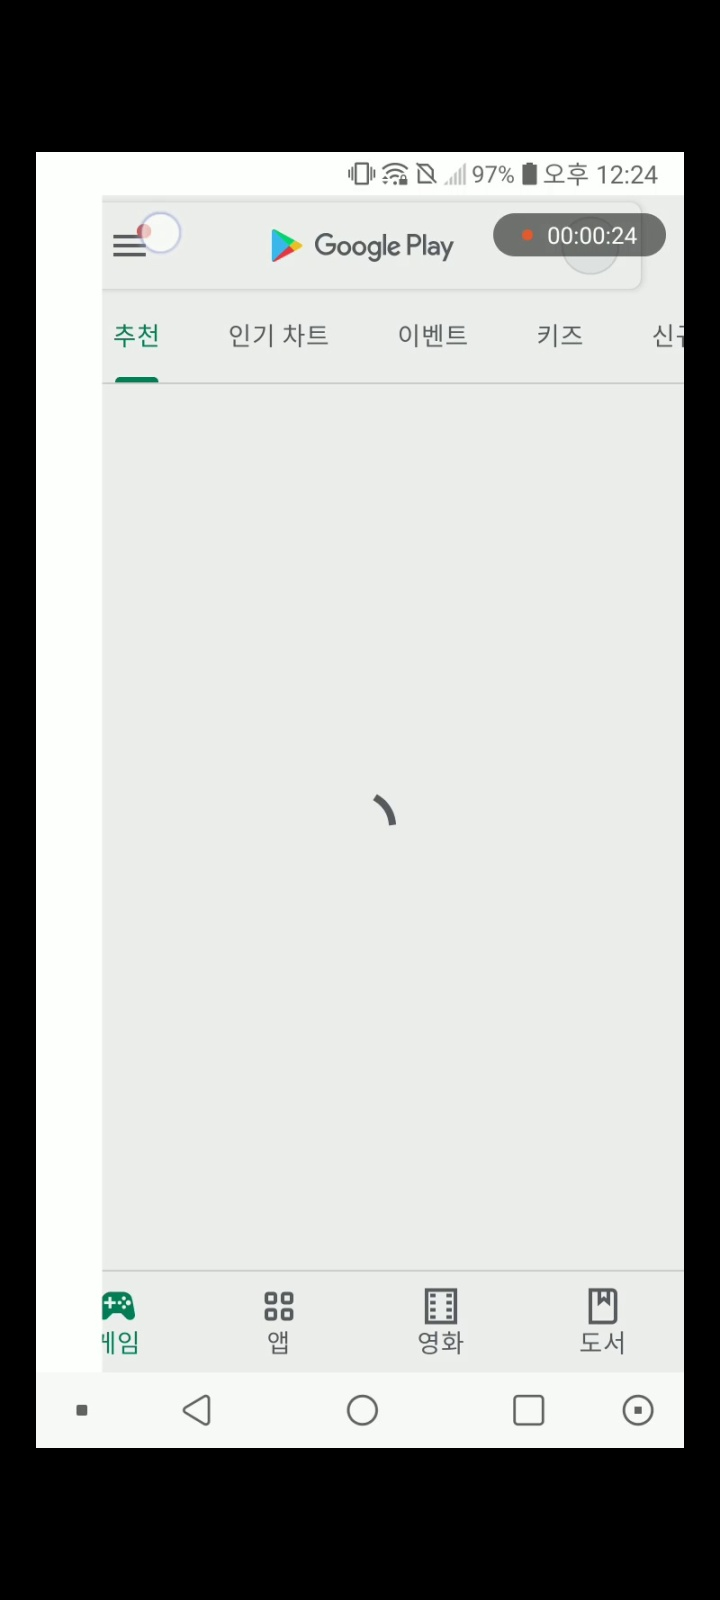Cursor: (138, 211, 183, 257)
